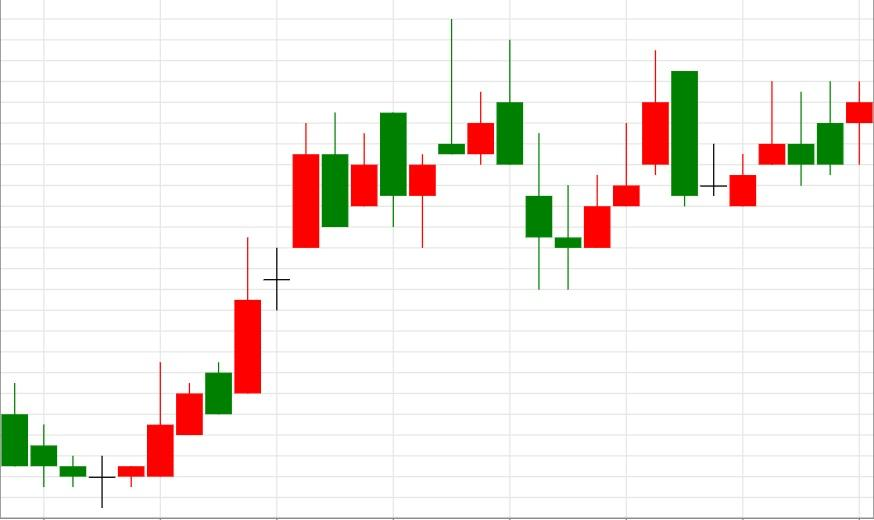bearish_engulfing_fall: (408, 19, 524, 249)
three_white_soldiers_rise: (495, 40, 670, 290)
